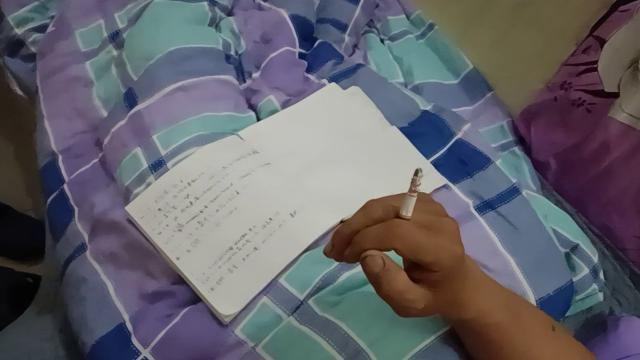Smoking: (394, 168, 426, 231)
